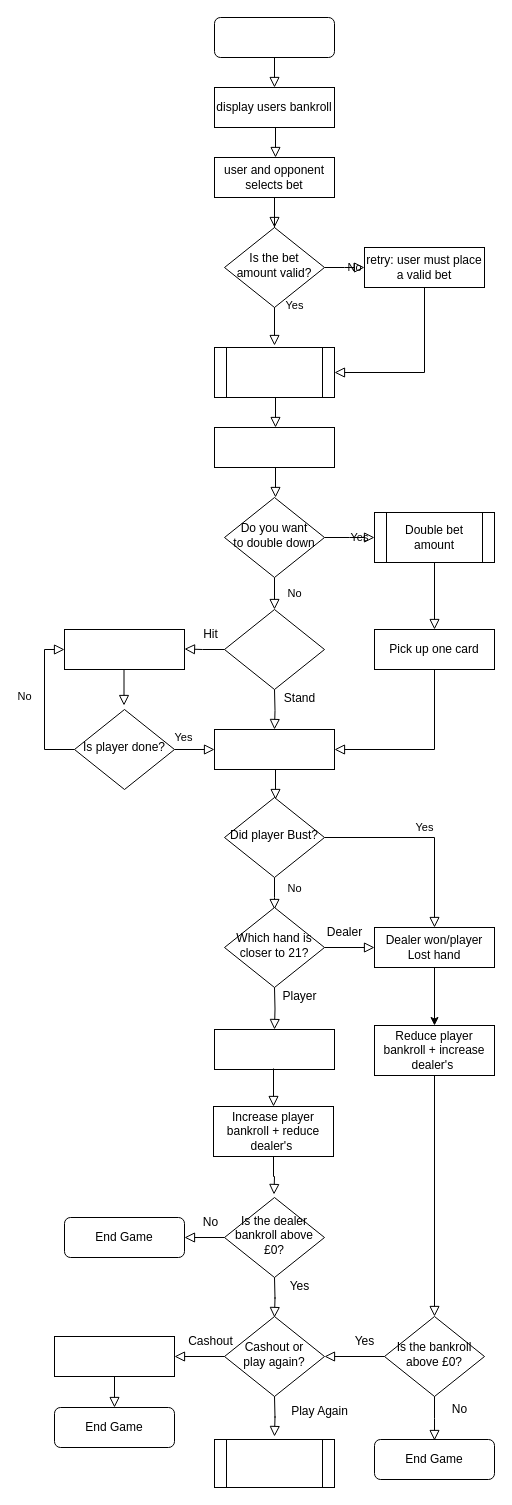
Some shapes in this 512 by 1505 pixel diagram are drawn without their labels. The shapes that lost their labels are listed below. From the top down, each one's centre as x and y in pixels, then its label:
At (274,37): "Intro to game".
At (274,372): "select random 2 cards".
At (274,447): "display card score to player".
At (124,649): "Select card".
At (274,649): "Take a hit or stand?".
At (274,749): "Lock in hand and bet".
At (274,1049): "Player Won/Dealer Lost".
At (114,1356): "Display earning/losses and total take home".
At (274,1463): "Re-loop through beginning until cashout or bust".
